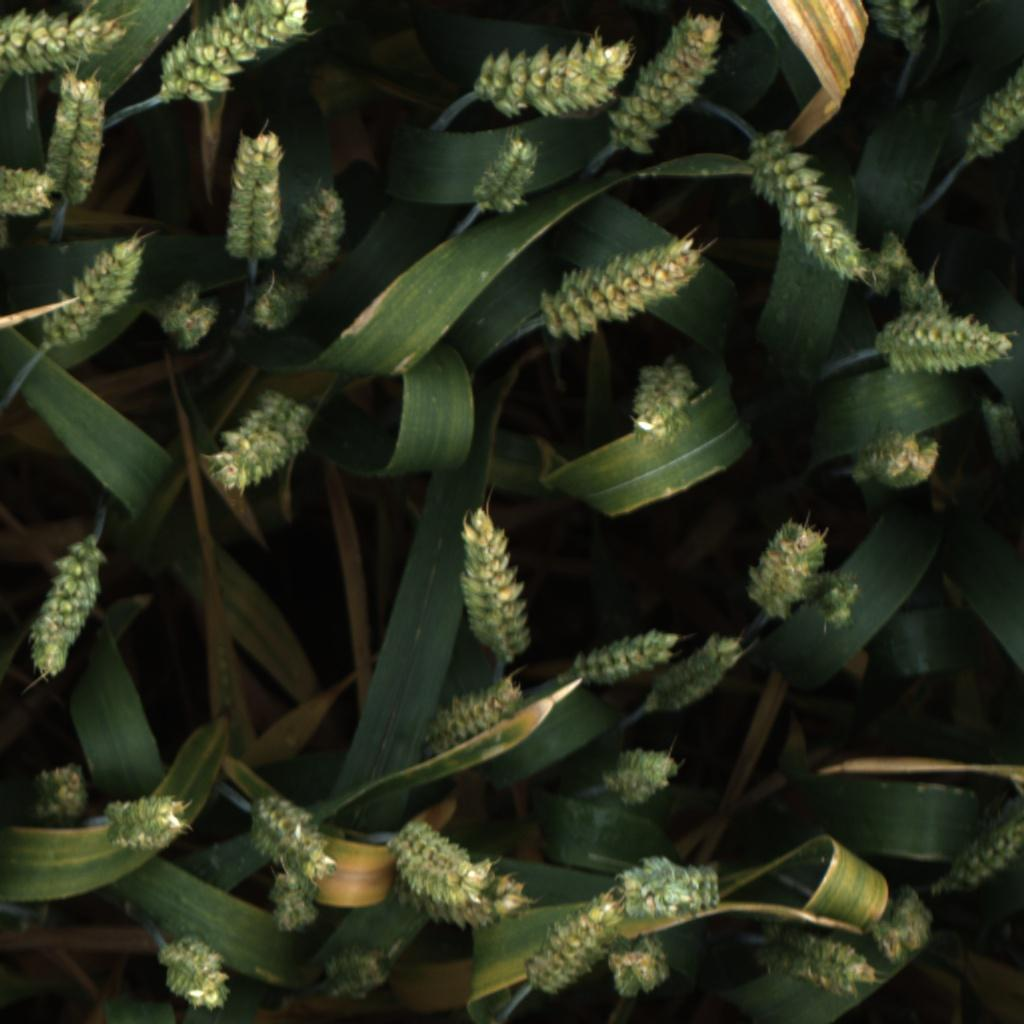0-0: (750, 127, 868, 281), (542, 232, 704, 342), (150, 0, 315, 103), (614, 15, 724, 151), (40, 222, 148, 346), (450, 508, 537, 659), (470, 36, 629, 114), (23, 538, 105, 682), (204, 385, 310, 494), (522, 879, 619, 990), (875, 308, 1020, 381), (0, 5, 130, 81), (936, 785, 1024, 897), (42, 77, 116, 208), (387, 816, 500, 901), (419, 674, 525, 763), (741, 513, 829, 618), (220, 127, 287, 260), (754, 934, 875, 1006), (847, 420, 951, 502), (958, 44, 1024, 164), (410, 873, 539, 932), (615, 852, 723, 922), (662, 633, 747, 717), (150, 934, 233, 1019), (620, 365, 708, 445), (247, 796, 337, 874), (470, 130, 544, 223), (566, 620, 679, 679), (105, 784, 195, 856), (21, 751, 93, 837), (596, 741, 684, 811), (288, 182, 352, 270), (871, 887, 939, 966), (599, 927, 668, 1003), (236, 271, 311, 340), (321, 937, 396, 1006), (155, 274, 220, 350), (863, 0, 934, 64), (262, 866, 326, 934), (815, 568, 871, 633), (0, 160, 60, 219), (862, 232, 914, 300), (979, 395, 1024, 472), (896, 264, 949, 319)
